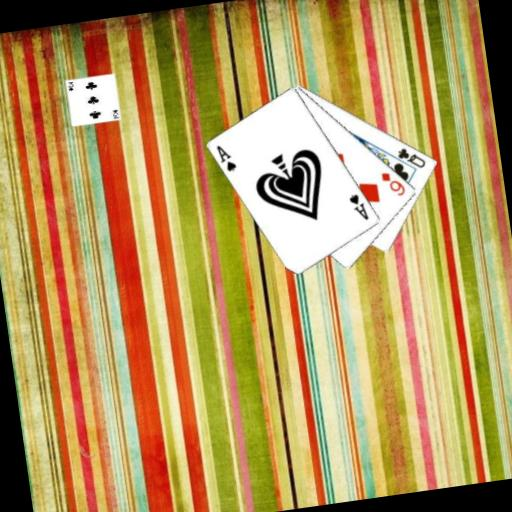6D: (378, 168, 408, 200)
AS: (213, 140, 239, 175), (345, 190, 371, 224)
QC: (394, 142, 429, 173)
